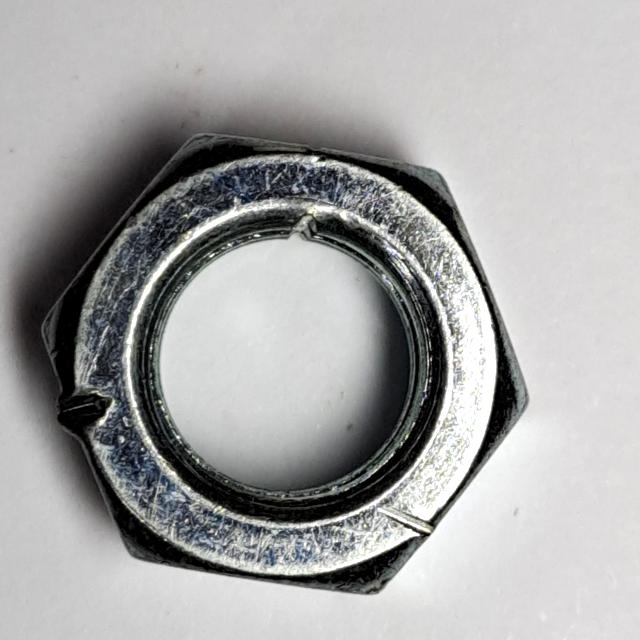Scratches: (25, 113, 538, 615)
